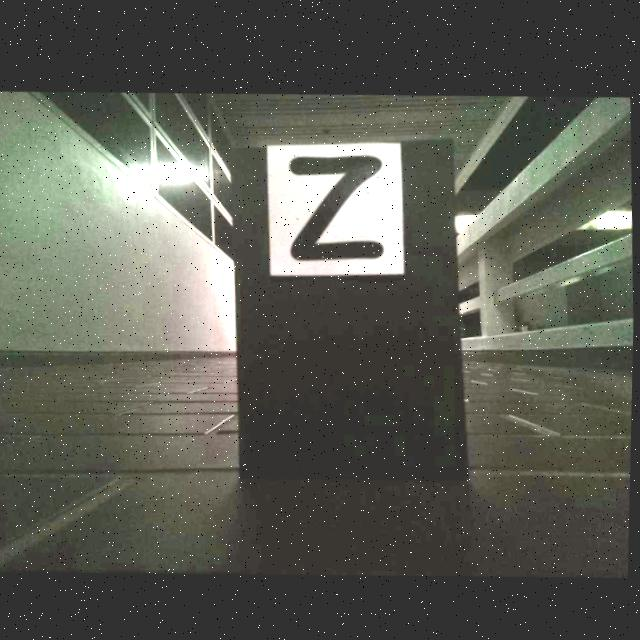Z: (290, 152, 384, 257)
